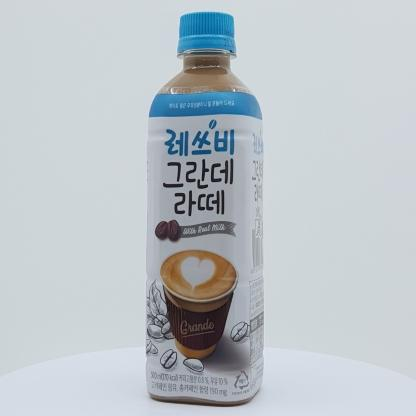--------500ML: (144, 10, 265, 407)
